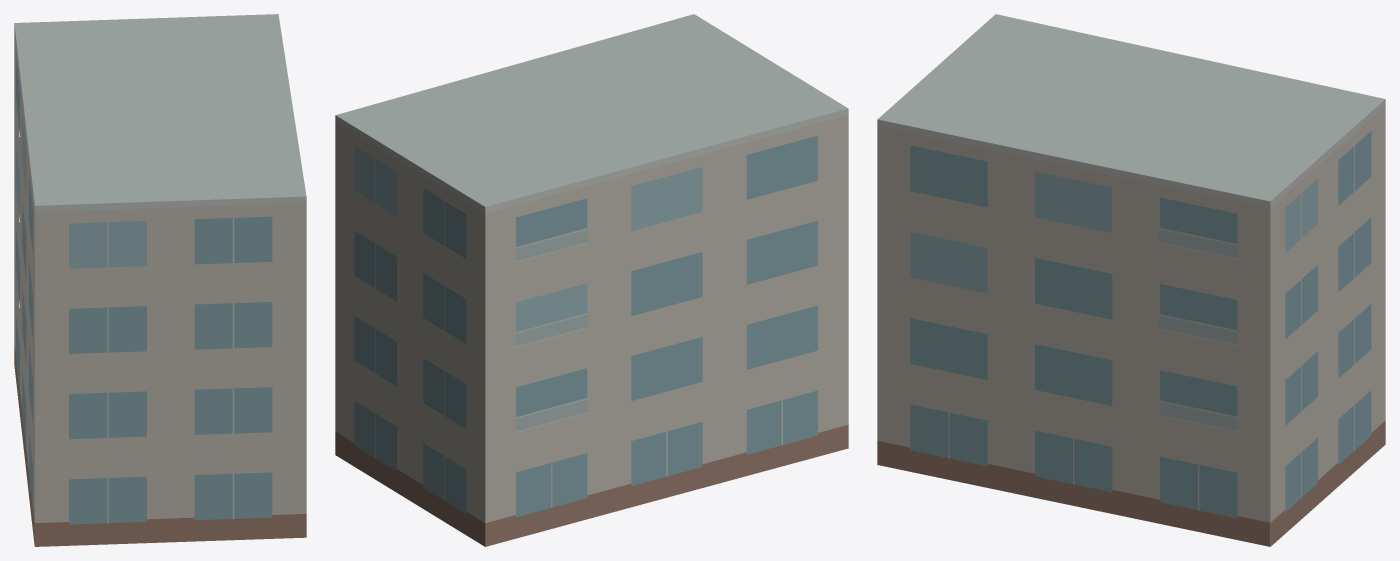
File: survey-upis-32826944.glb
3 renders of one model, left to right at view 1: azimuth 30°, elevation 25°; view 2: azimuth 150°, elevation 25°; view 3: azimuth 270°, elevation 25°, orthographic.
Parts seen in each view (by area): view 1: survey-upis-32826944.tmp; view 2: survey-upis-32826944.tmp; view 3: survey-upis-32826944.tmp.
Part boxes in pixels (x1,y1,x2,y2): survey-upis-32826944.tmp: (14,14,306,546); survey-upis-32826944.tmp: (335,14,848,546); survey-upis-32826944.tmp: (877,14,1385,546).
Bounding box in the file's own units: 14.91 × 12.8 × 17.08.
